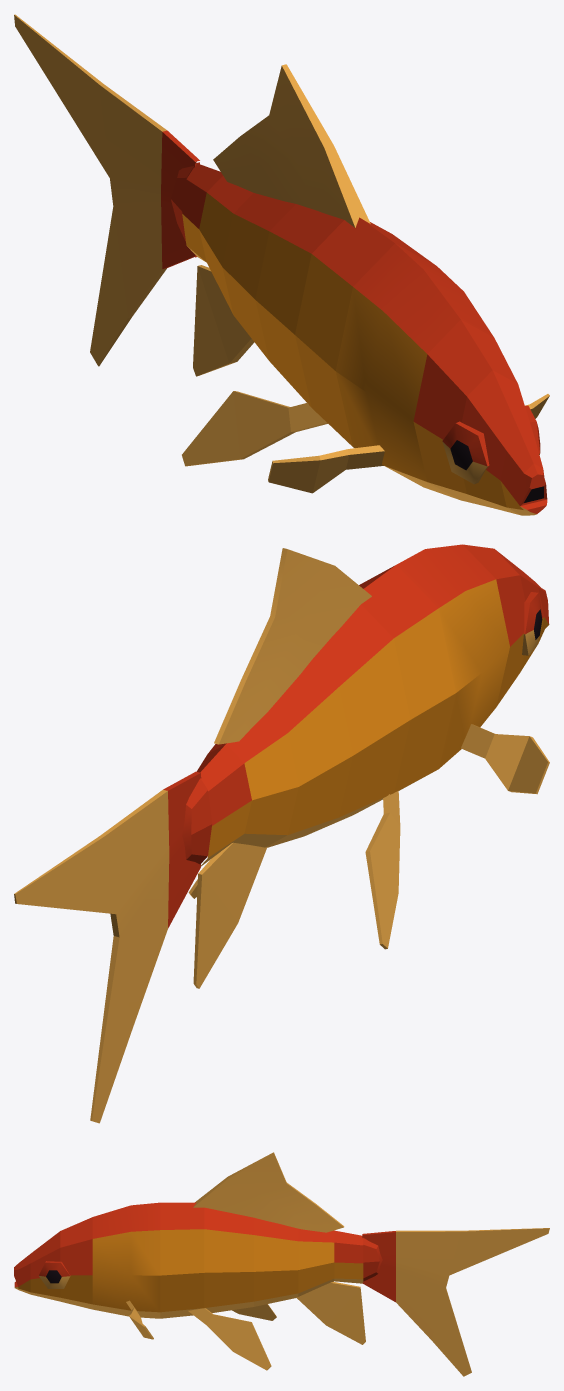
File: gold-fish.glb
3 renders of one model, top to bottom at view 1: azimuth 30°, elevation 25°; view 2: azimuth 150°, elevation 25°; view 3: azimuth 270°, elevation 25°, orthographic. The views are drawn at different scales.
Parts seen in each view (by area): view 1: body, tail, upperFin, lowerBackRightFin, lowerRightFin; view 2: body, tail, upperFin, lowerBackRightFin, lowerRightFin; view 3: body, tail, upperFin, lowerBackLeftFin, lowerBackRightFin, lowerLeftFin.
Boxes of the visible parts, x1,y1,x2,y2 form: body: (182, 162, 547, 515); tail: (14, 14, 199, 366); upperFin: (213, 64, 370, 227); lowerBackRightFin: (182, 391, 327, 466); lowerRightFin: (268, 445, 384, 493); body: (193, 544, 549, 988); tail: (14, 771, 212, 1123); upperFin: (214, 548, 371, 744); lowerBackRightFin: (365, 791, 400, 949); lowerRightFin: (461, 724, 549, 794); body: (14, 1202, 365, 1344); tail: (362, 1228, 549, 1376); upperFin: (193, 1152, 344, 1232); lowerBackLeftFin: (188, 1308, 271, 1370); lowerBackRightFin: (232, 1304, 276, 1320); lowerLeftFin: (126, 1300, 153, 1339).
Bounding box in the file's own units: 1.13 × 1.7 × 3.69.
Materials: 1 (1 with a texture image).
